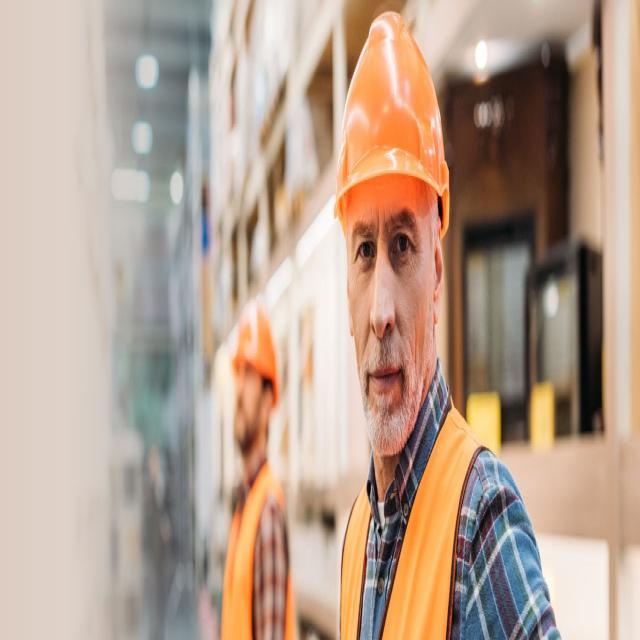helmet: (334, 10, 452, 454), (231, 304, 279, 454)
